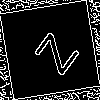Z: (25, 25, 80, 77)
